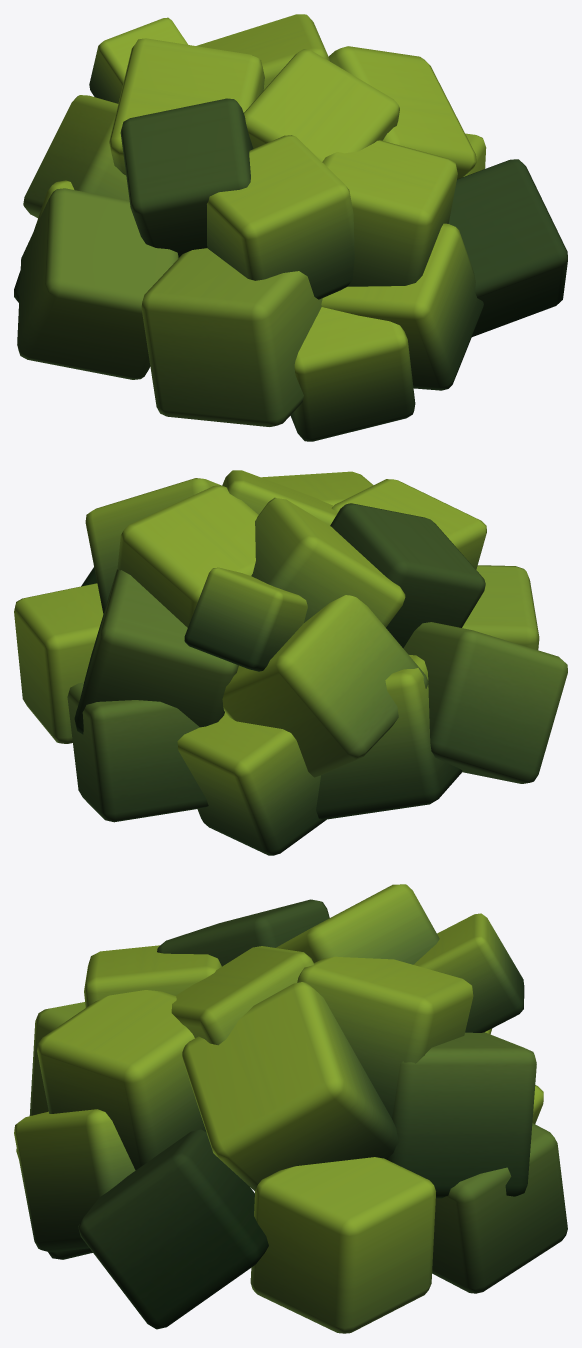
File: Bush.fbx
3 views of the same model, one above another, from view 1: azimuth 30°, elevation 25°; view 2: azimuth 150°, elevation 25°; view 3: azimuth 270°, elevation 25° (orthographic). The views are drawn at different scales.
Visible parts, largest first — view 1: Bush; view 2: Bush; view 3: Bush.
Part boxes in pixels (x1,y1,x2,y2): Bush: (14, 14, 567, 441); Bush: (14, 470, 567, 855); Bush: (14, 884, 567, 1333).
Size of the model in its own units: 98.12 by 57.69 by 86.79.
